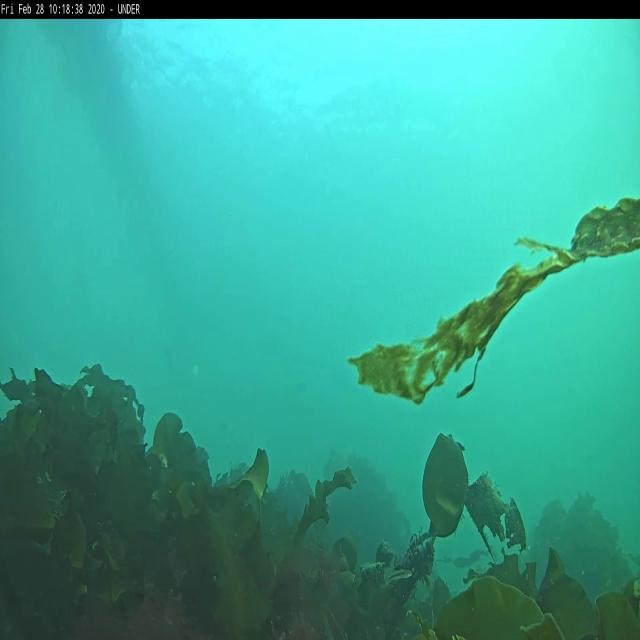fish: (384, 568, 412, 582)
